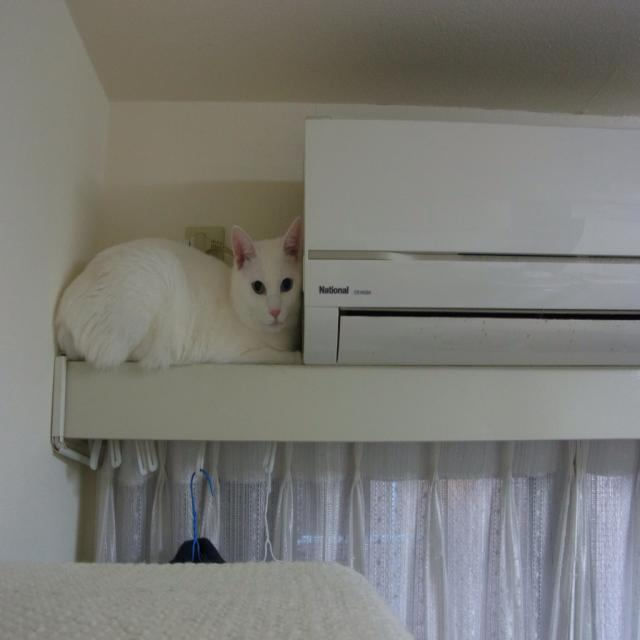Cat: (54, 216, 302, 367)
